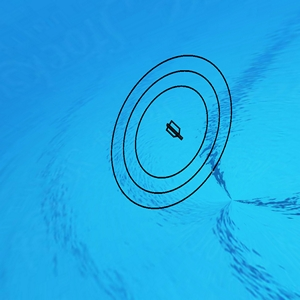circle: (106, 46, 236, 214)
submarine: (164, 117, 185, 144)
